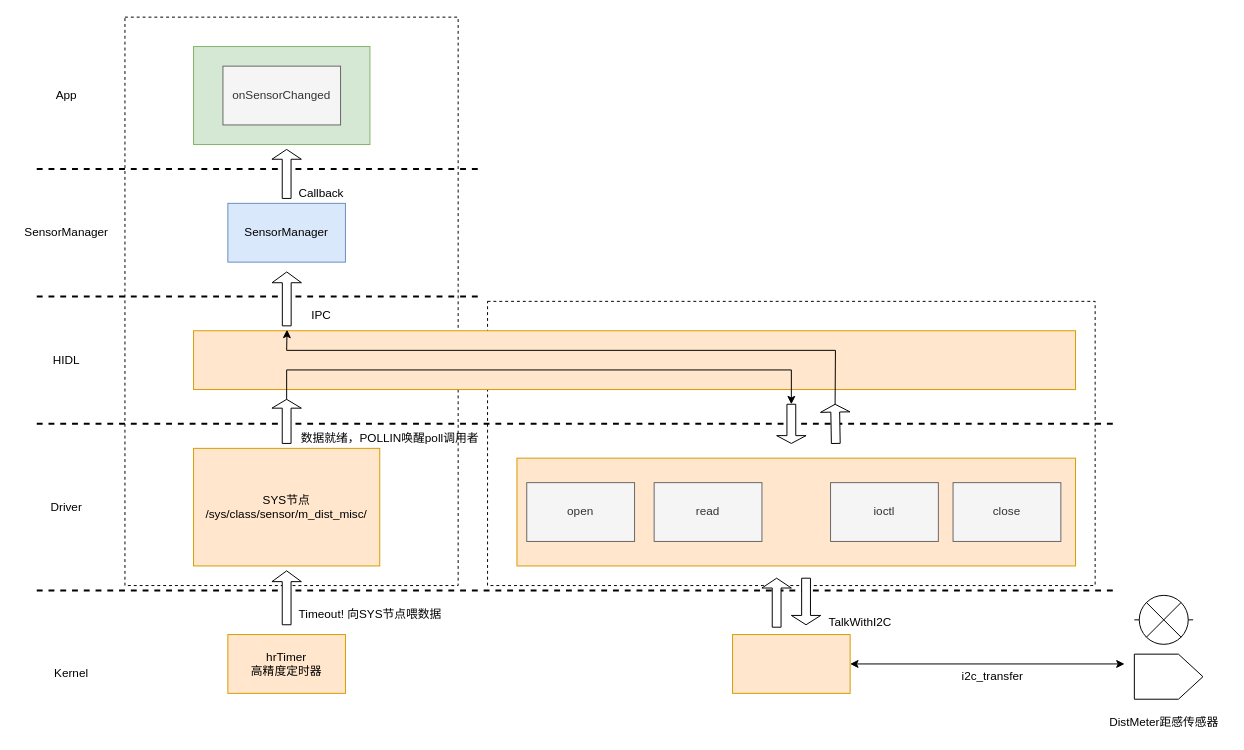
Image size: 1244x750. Some labels were removed from this diagram. Each missing label, with the box of its shape:
DEV节点 /dev/nd01: (516, 457, 1076, 566)
i2c_kobject: (732, 634, 850, 693)
SensorHIDL: (193, 330, 1076, 390)
SensorManager.SensorEventListener: (193, 46, 370, 145)
